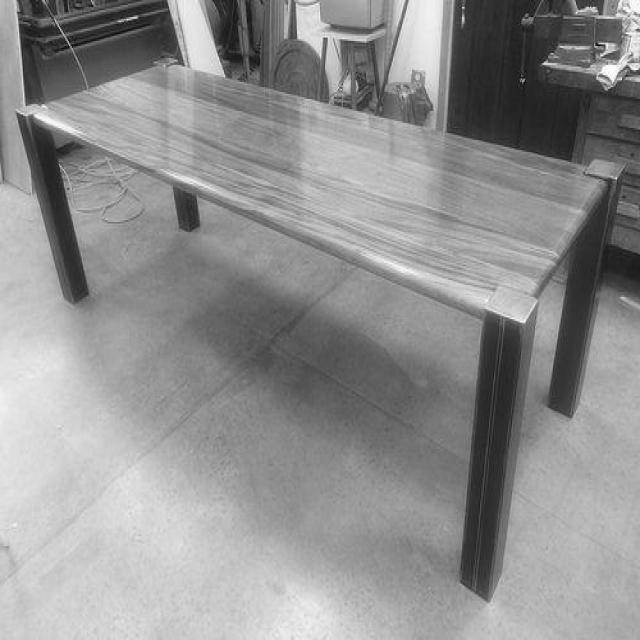table: (16, 61, 622, 596)
